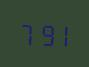nine: (36, 19, 52, 47)
one: (53, 20, 69, 47)
seven: (18, 19, 34, 46)
